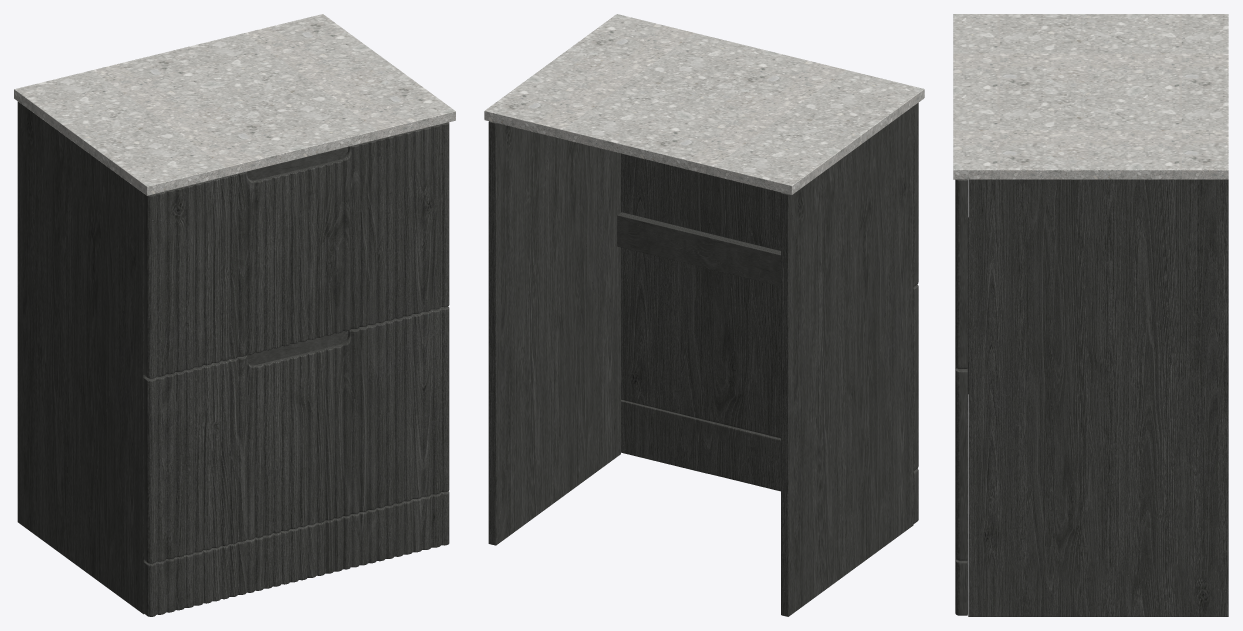
3 views of the same model, side by side, from view 1: azimuth 30°, elevation 25°; view 2: azimuth 150°, elevation 25°; view 3: azimuth 270°, elevation 25° (orthographic). The views are drawn at different scales.
Visible parts, largest first — view 1: Box850, Rectangle2009, Rectangle1819; view 2: Box850, Rectangle2009, Rectangle1819; view 3: Box850, Rectangle2009.
Part boxes in pixels (x1,y1,x2,y2): Box850: [17, 101, 449, 616]; Rectangle2009: [14, 14, 455, 195]; Rectangle1819: [246, 147, 348, 365]; Box850: [488, 103, 918, 616]; Rectangle2009: [484, 14, 924, 194]; Rectangle1819: [617, 212, 780, 286]; Box850: [955, 179, 1228, 616]; Rectangle2009: [953, 14, 1228, 179].
Size of the model in its own units: 0.61 by 0.8185 by 0.455.
2 materials, 2 textured.
